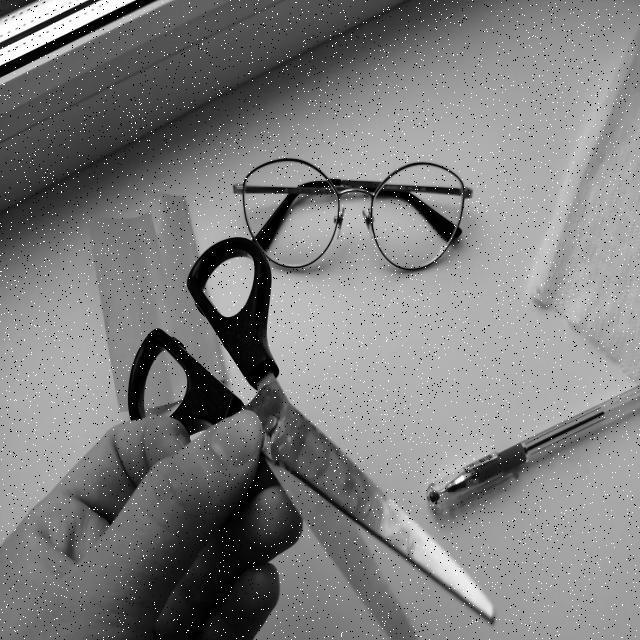scissors: (117, 214, 523, 640)
